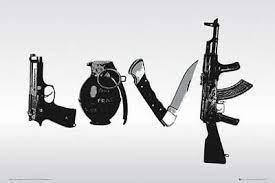Grenade: (79, 59, 128, 124)
Gun: (200, 18, 252, 165)
Knife: (129, 57, 198, 127)
Pistol: (27, 52, 77, 128)
